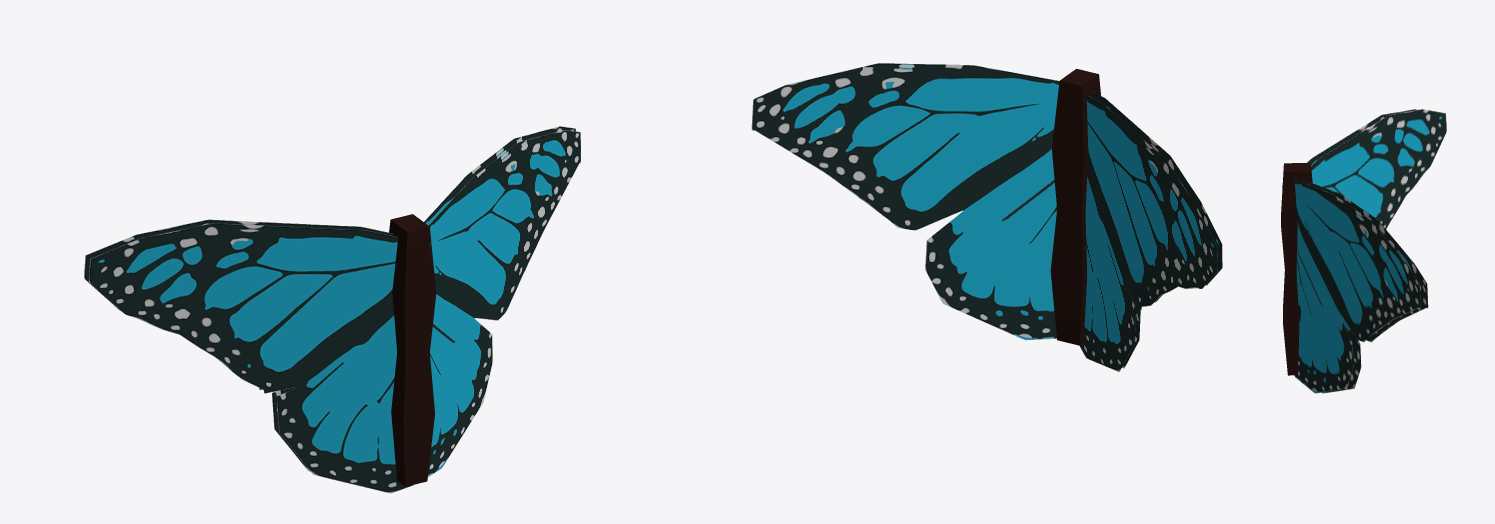
File: SM_butterfly_01.fbx
The picture shows the model from 3 angles, left to right: view 1: azimuth 30°, elevation 25°; view 2: azimuth 150°, elevation 25°; view 3: azimuth 270°, elevation 25°; orthographic projection. The views are drawn at different scales.
Visible parts, largest first — view 1: butterfly_01; view 2: butterfly_01; view 3: butterfly_01.
Part boxes in pixels (x1,y1,x2,y2): butterfly_01: [84, 126, 580, 493]; butterfly_01: [751, 63, 1222, 371]; butterfly_01: [1281, 109, 1446, 393].
Size of the model in its own units: 53.94 by 29.27 by 19.78.
